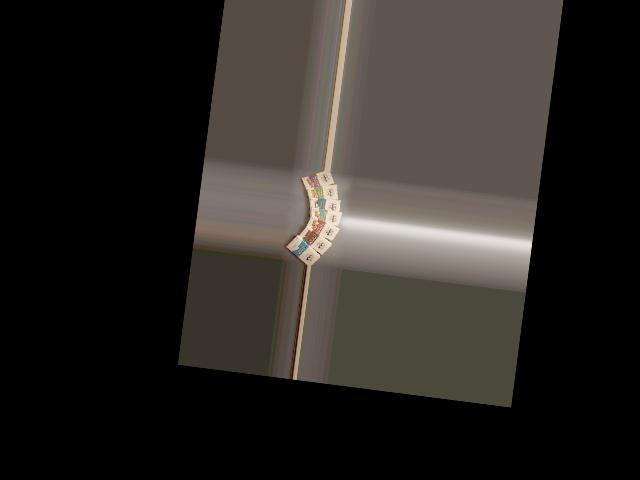chocolate: (282, 233, 324, 266)
